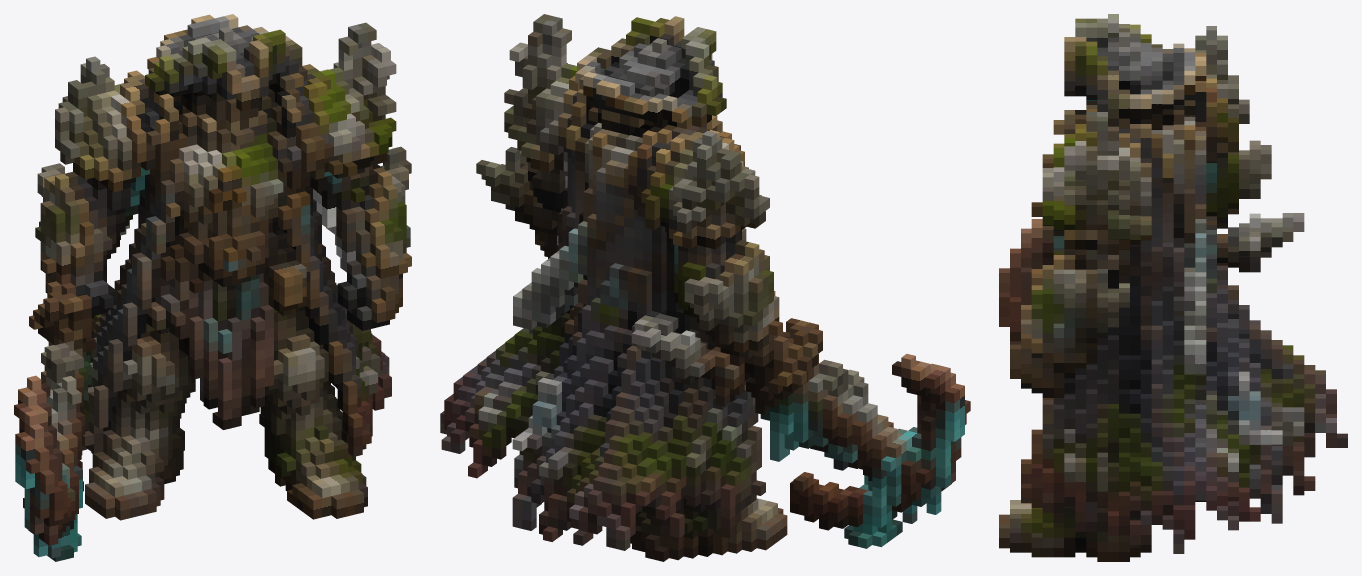
Rendered from u_capitaine.glb.
3 views of the same model, side by side, from view 1: azimuth 30°, elevation 25°; view 2: azimuth 150°, elevation 25°; view 3: azimuth 270°, elevation 25° (orthographic). The views are drawn at different scales.
Visible parts, largest first — view 1: capitaine_body; view 2: capitaine_body; view 3: capitaine_body.
Boxes of the visible parts, left/top/right/bottom form: capitaine_body: left=14, top=14, right=411, bottom=561; capitaine_body: left=440, top=14, right=970, bottom=561; capitaine_body: left=999, top=14, right=1347, bottom=561.
Bounding box in the file's own units: 1.52 × 1.52 × 1.02.
1 material, 1 textured.
